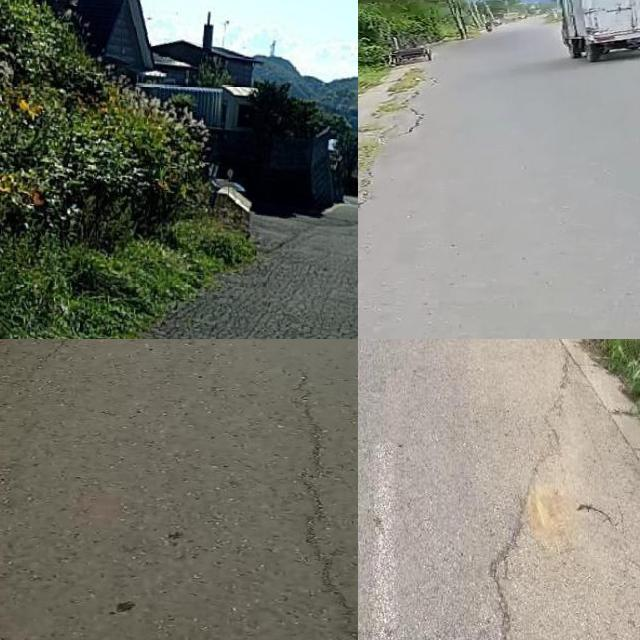Memanjang: (472, 358, 587, 640)
Pinggir: (358, 43, 469, 212)
